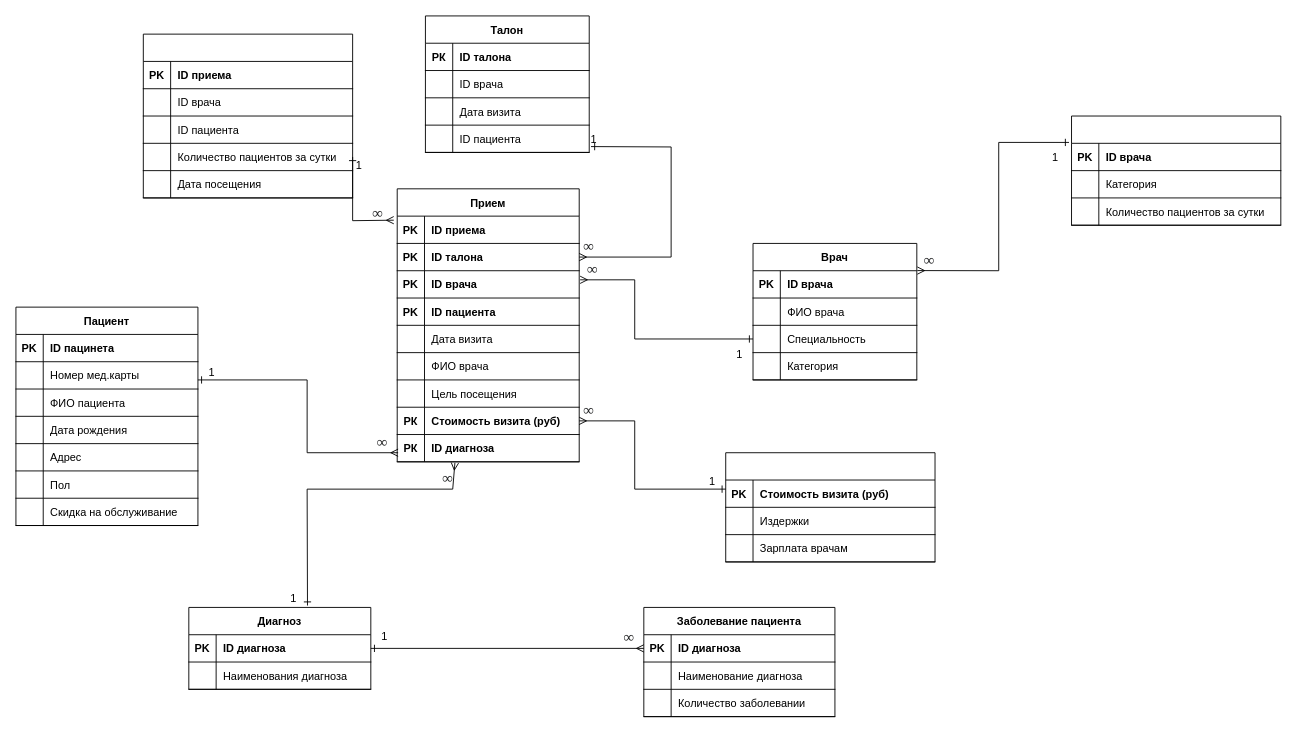
This 1297x733 diagram has some shape labels left out. The shapes that lost their labels are listed below. From the top down, each one's box as (x1, y1, x2, y2) in pixels, then its label:
(142, 33, 353, 198): Количество приемов
(1071, 115, 1281, 225): Загрузка врачей
(725, 452, 935, 562): Выручка
